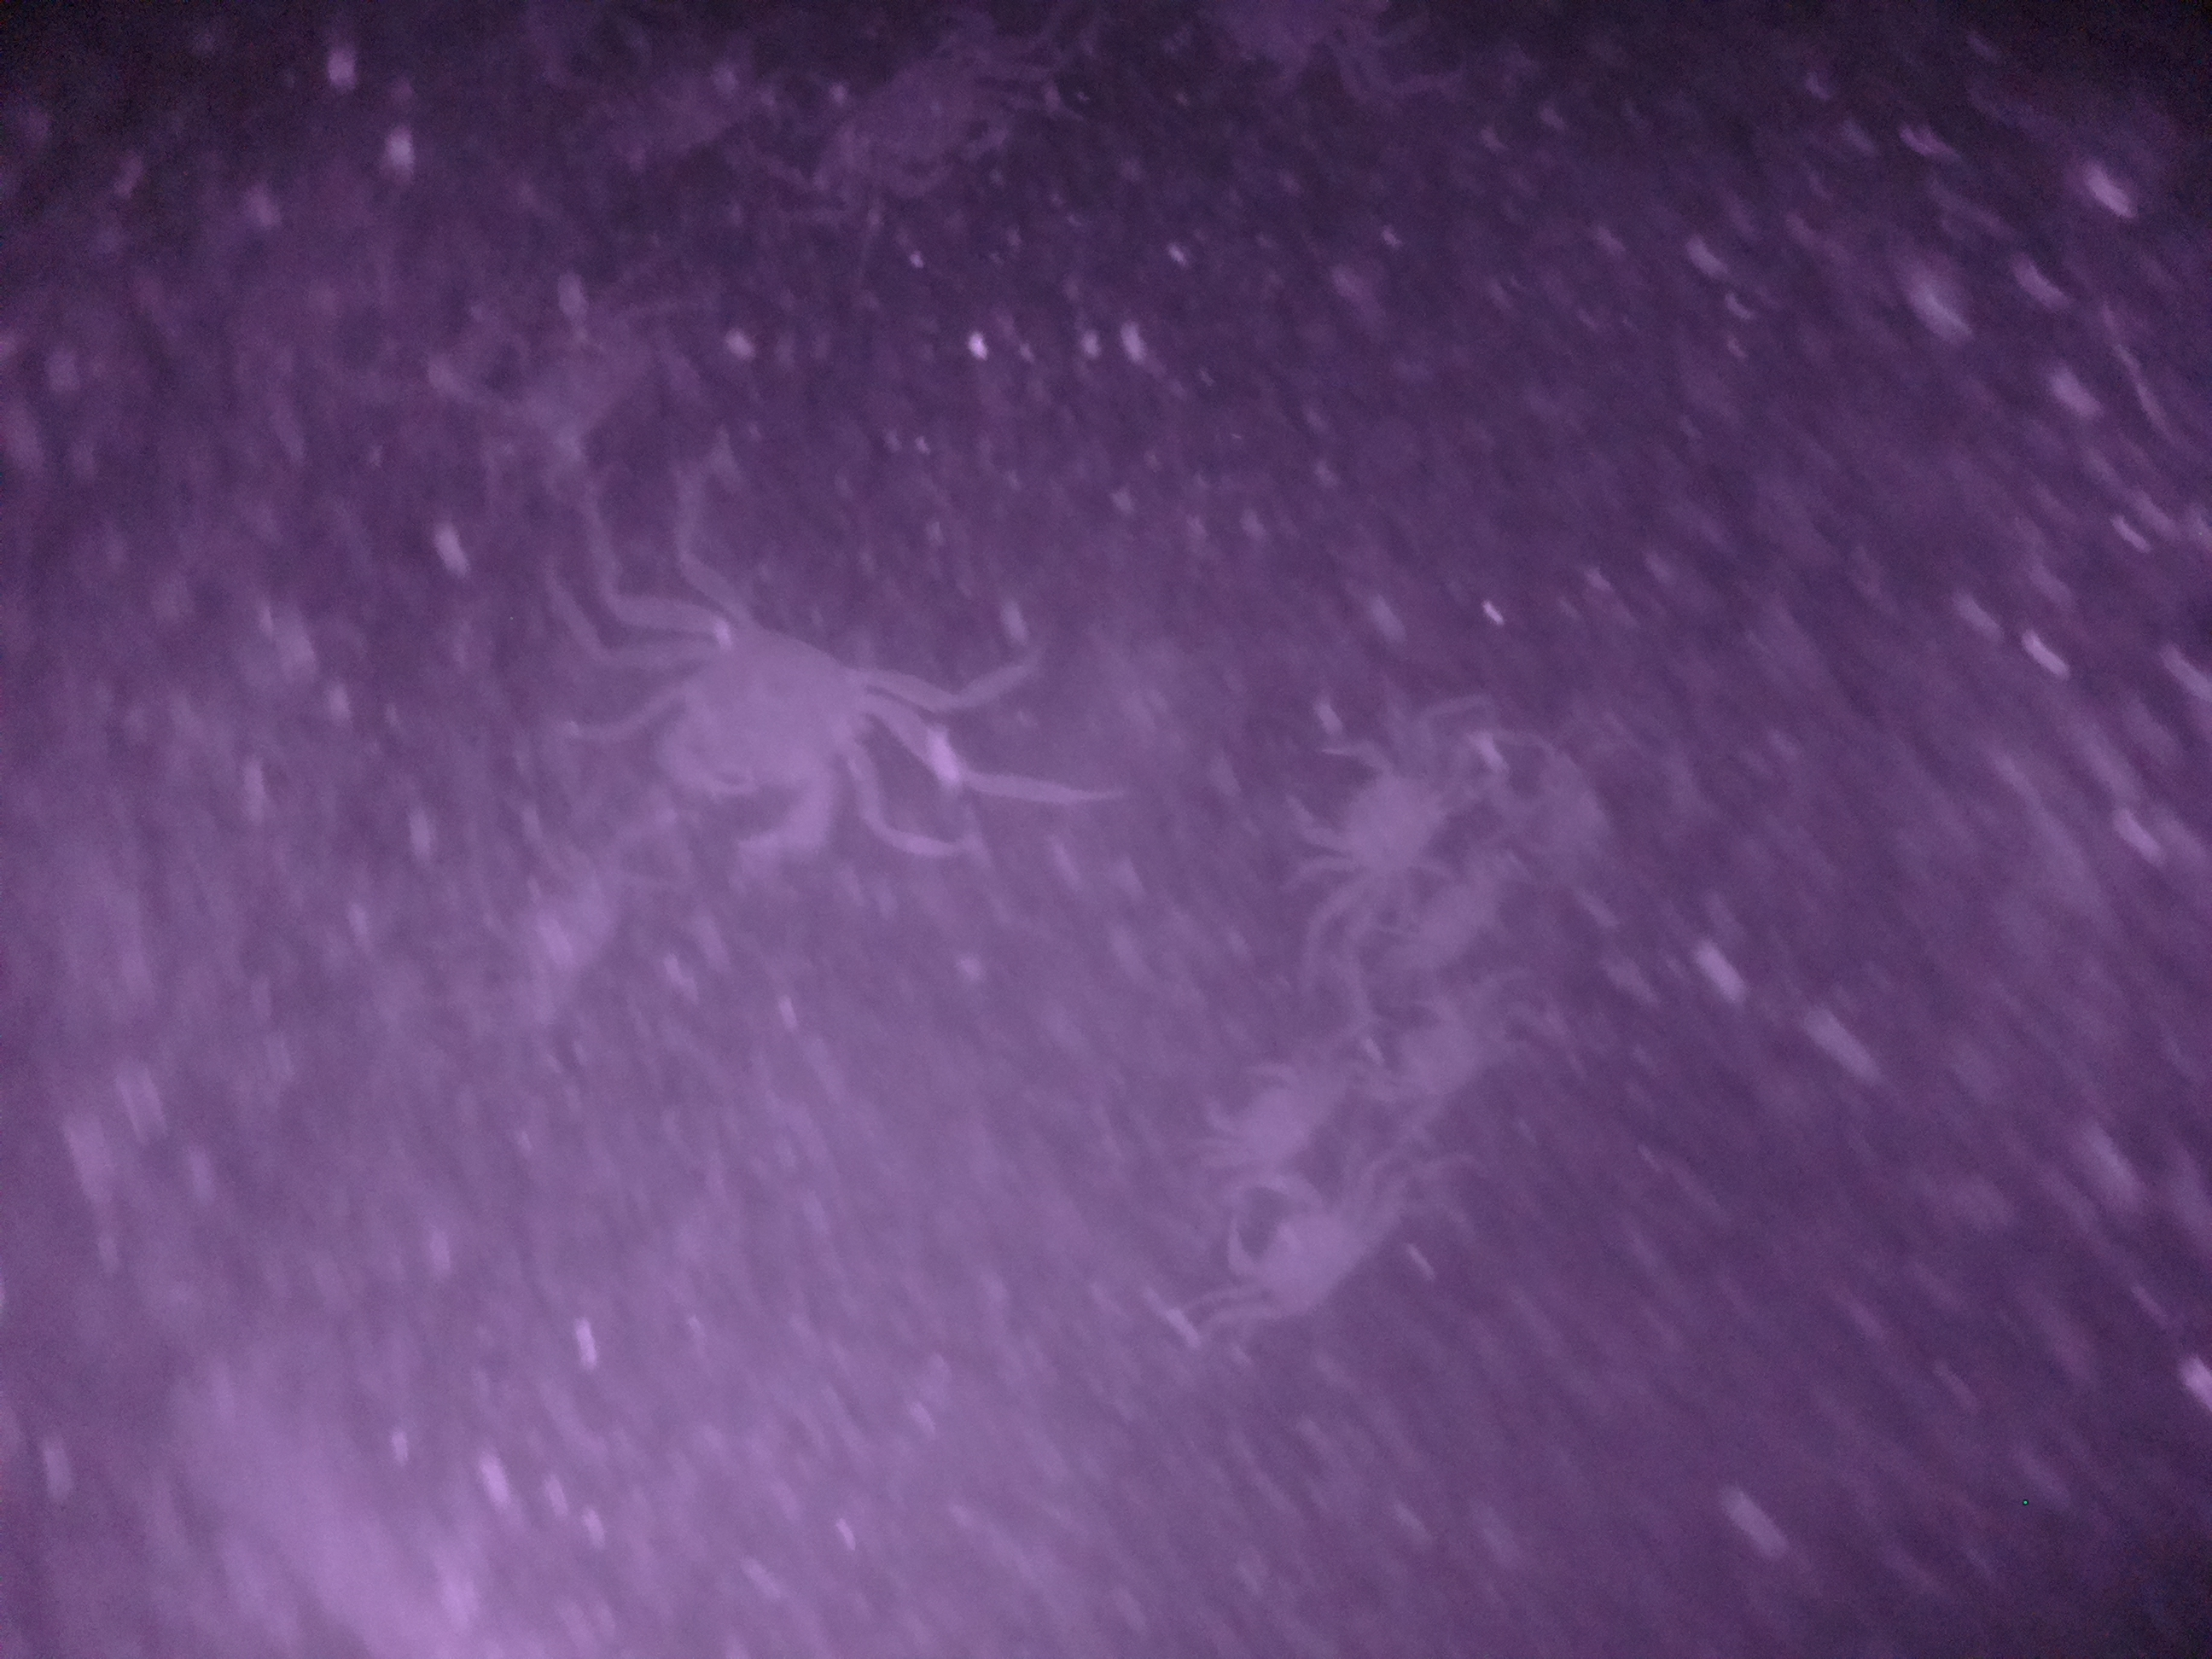Crab: (1259, 708, 1482, 908), (1212, 1166, 1404, 1340)
